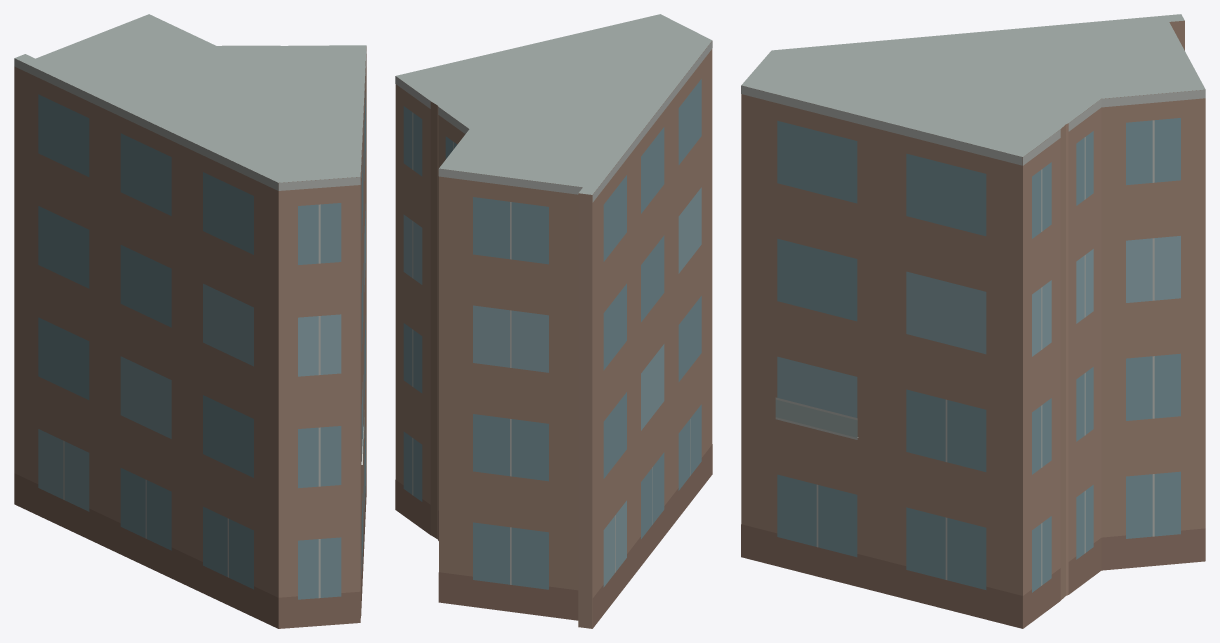
File: survey-upis-32878203.glb
The picture shows the model from 3 angles, left to right: view 1: azimuth 30°, elevation 25°; view 2: azimuth 150°, elevation 25°; view 3: azimuth 270°, elevation 25°; orthographic projection. The views are drawn at different scales.
Parts seen in each view (by area): view 1: survey-upis-32878203.tmp; view 2: survey-upis-32878203.tmp; view 3: survey-upis-32878203.tmp.
Part boxes in pixels (x1,y1,x2,y2): survey-upis-32878203.tmp: (14,14,366,628); survey-upis-32878203.tmp: (395,14,712,628); survey-upis-32878203.tmp: (741,14,1205,628).
Size of the model in its own units: 8.63 by 13.25 by 11.84.
